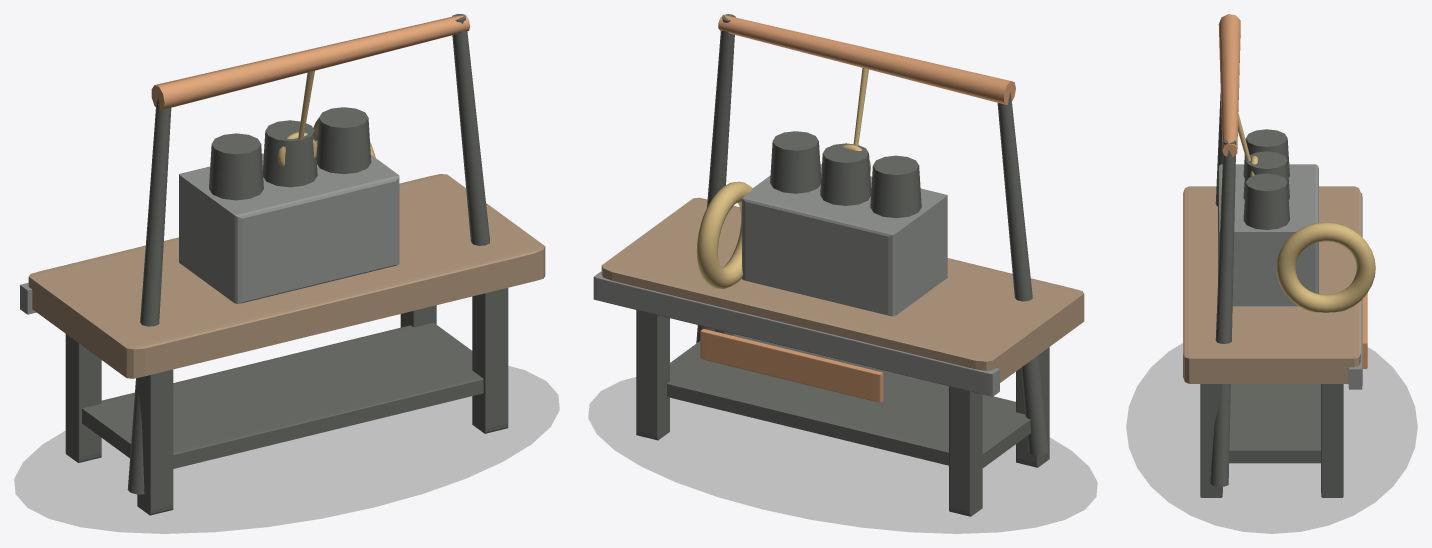
File: craft_station_repair.glb
3 views of the same model, side by side, from view 1: azimuth 30°, elevation 25°; view 2: azimuth 150°, elevation 25°; view 3: azimuth 270°, elevation 25° (orthographic). The views are drawn at different scales.
Parts seen in each view (by area): view 1: repair_rig_station_worktop, painted_contact_shadow, repair_rig_station_lower_shelf, engine_block, hoist_crossbeam, hoist_left, repair_rig_station_leg_1_1, repair_rig_station_leg_-1_1, hoist_right, repair_rig_station_leg_-1_-1, engine_cylinder_0, engine_cylinder_2 (+1 smaller); view 2: painted_contact_shadow, repair_rig_station_worktop, engine_block, repair_rig_station_lower_shelf, repair_rig_station_front_edge, hoist_crossbeam, repair_rig_station_type_plate, hoist_left, repair_rig_station_leg_-1_-1, repair_rig_station_leg_1_-1, engine_gear, hoist_right (+4 smaller); view 3: painted_contact_shadow, repair_rig_station_worktop, engine_block, repair_rig_station_lower_shelf, engine_gear, hoist_right, hoist_crossbeam, repair_rig_station_leg_1_-1, engine_cylinder_2, repair_rig_station_leg_1_1, engine_cylinder_0, engine_cylinder_1 (+2 smaller).
Part boxes in pixels (bbox=[...]): repair_rig_station_worktop: bbox=[28, 174, 545, 378]; painted_contact_shadow: bbox=[14, 366, 559, 533]; repair_rig_station_lower_shelf: bbox=[82, 322, 483, 468]; engine_block: bbox=[179, 140, 399, 303]; hoist_crossbeam: bbox=[151, 14, 469, 110]; hoist_left: bbox=[127, 98, 171, 494]; repair_rig_station_leg_1_1: bbox=[472, 288, 508, 433]; repair_rig_station_leg_-1_1: bbox=[137, 369, 173, 515]; hoist_right: bbox=[452, 14, 489, 245]; repair_rig_station_leg_-1_-1: bbox=[65, 334, 101, 462]; engine_cylinder_0: bbox=[209, 133, 263, 200]; engine_cylinder_2: bbox=[316, 107, 371, 174]; painted_contact_shadow: bbox=[588, 377, 1097, 533]; repair_rig_station_worktop: bbox=[601, 197, 1084, 382]; engine_block: bbox=[742, 164, 947, 316]; repair_rig_station_lower_shelf: bbox=[667, 334, 1030, 467]; repair_rig_station_front_edge: bbox=[593, 271, 999, 396]; hoist_crossbeam: bbox=[718, 14, 1015, 104]; repair_rig_station_type_plate: bbox=[700, 329, 883, 402]; hoist_left: bbox=[997, 91, 1048, 455]; repair_rig_station_leg_-1_-1: bbox=[949, 386, 982, 516]; repair_rig_station_leg_1_-1: bbox=[636, 310, 669, 440]; engine_gear: bbox=[696, 181, 752, 288]; hoist_right: bbox=[696, 14, 735, 343]; painted_contact_shadow: bbox=[1126, 343, 1417, 533]; repair_rig_station_worktop: bbox=[1183, 186, 1360, 383]; engine_block: bbox=[1218, 164, 1318, 306]; repair_rig_station_lower_shelf: bbox=[1229, 384, 1320, 463]; engine_gear: bbox=[1276, 222, 1375, 312]; hoist_right: bbox=[1210, 139, 1236, 486]; hoist_crossbeam: bbox=[1218, 14, 1240, 156]; repair_rig_station_leg_1_-1: bbox=[1321, 384, 1343, 497]; engine_cylinder_2: bbox=[1243, 173, 1289, 229]; repair_rig_station_leg_1_1: bbox=[1200, 384, 1222, 497]; engine_cylinder_0: bbox=[1243, 129, 1289, 177]; engine_cylinder_1: bbox=[1243, 151, 1289, 199].
Size of the model in its own units: 2.9 by 2.21 by 1.67.
